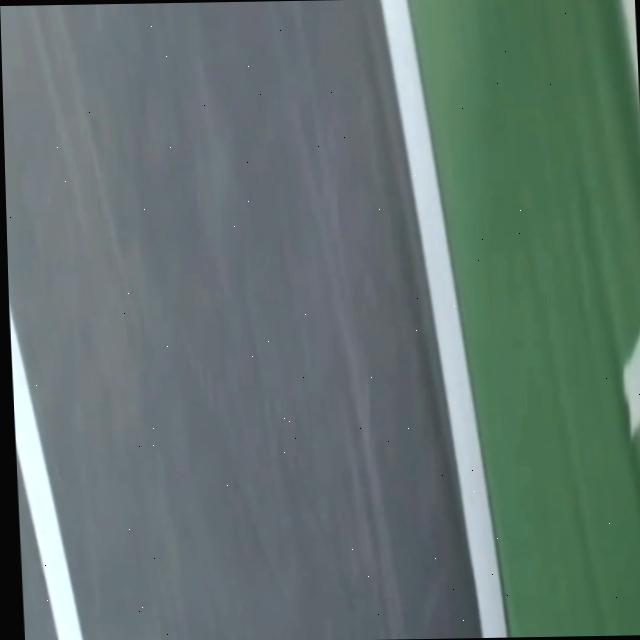center: (9, 302, 82, 640)
right: (381, 0, 506, 638)
